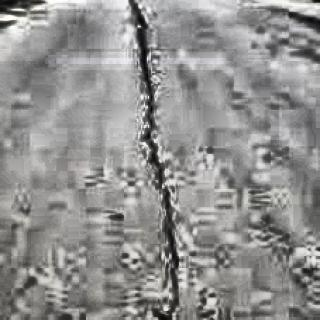crack: (122, 0, 194, 320)
